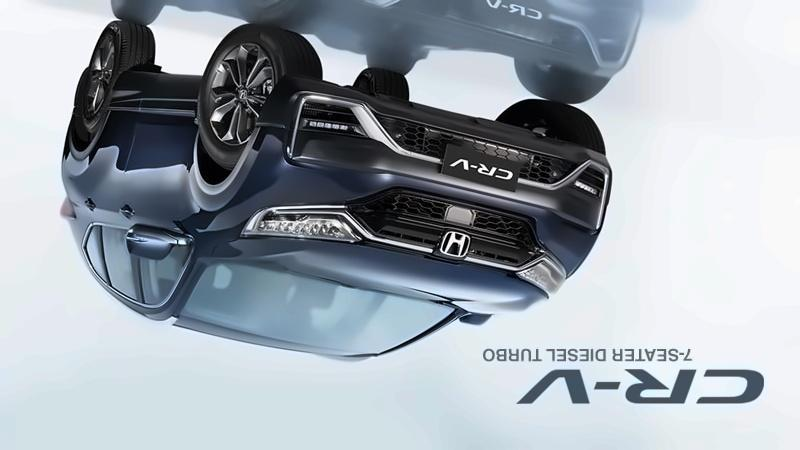Car hood: (211, 232, 556, 328)
Fender - -F-L-: (178, 104, 291, 253)
Front bumper: (247, 69, 613, 264)
Headlight - -L-: (234, 200, 369, 244), (508, 250, 568, 299)
Passenger-s door - -F-L-: (119, 60, 209, 322)
Passenger-s door - -R-L-: (77, 62, 159, 321)
Side bumper - -L-: (102, 61, 209, 140)
Side mirror - -L-: (125, 220, 192, 264)
